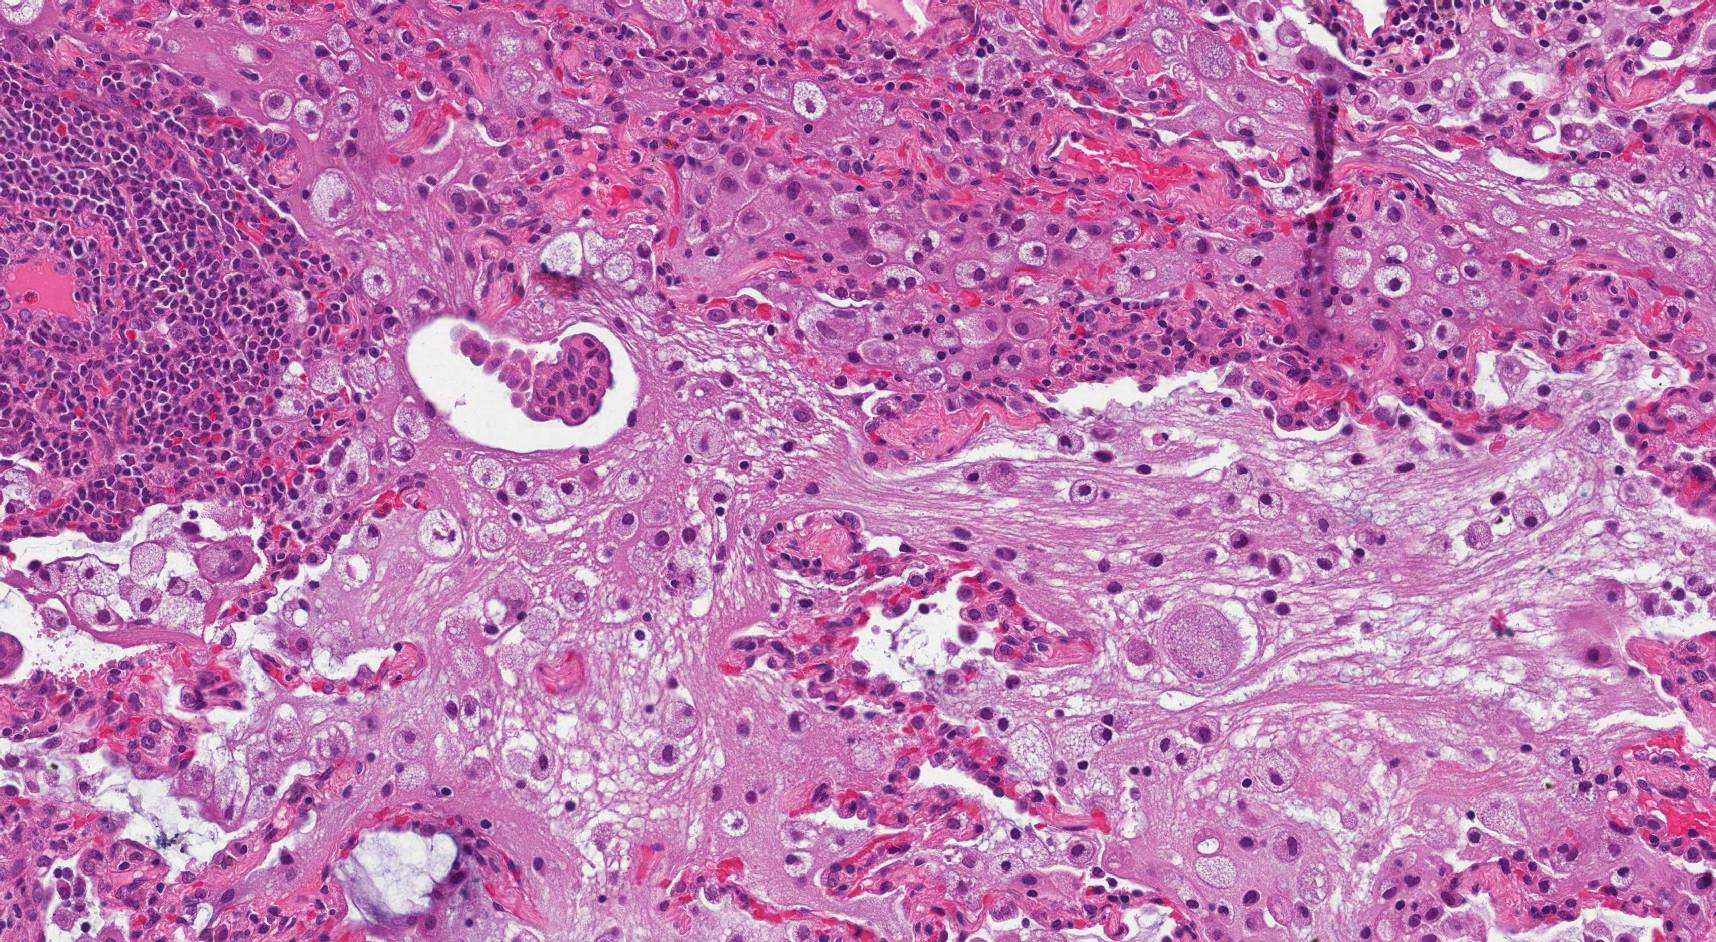stas: (457, 328, 613, 426)
